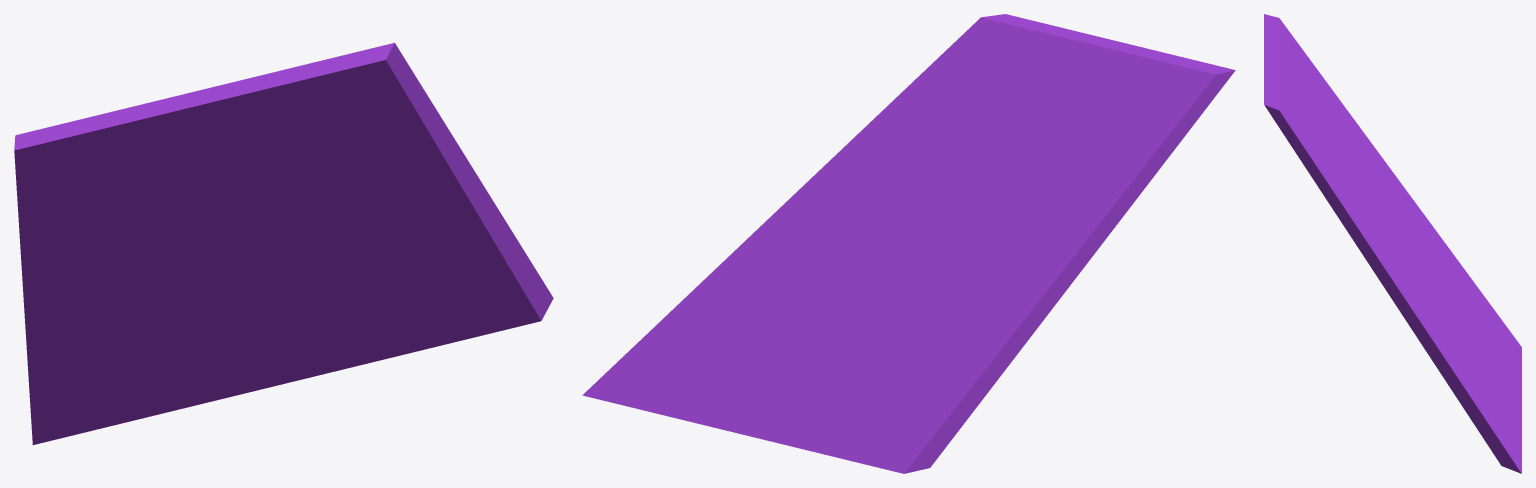
File: Window_111_chunks.fbx
3 views of the same model, side by side, from view 1: azimuth 30°, elevation 25°; view 2: azimuth 150°, elevation 25°; view 3: azimuth 270°, elevation 25° (orthographic). The views are drawn at different scales.
Visible parts, largest first — view 1: Window_111_4, Window_111_14, Window_111_1, Window_111_9, Window_111_2, Window_111_5, Window_111_20, Window_111_17, Window_111_7, Window_111_18, Window_111_12, Window_111_0 (+9 smaller); view 2: Window_111_9, Window_111_4, Window_111_14, Window_111_1, Window_111_2, Window_111_20, Window_111_3, Window_111_6, Window_111_15, Window_111_7, Window_111_17, Window_111_5 (+6 smaller); view 3: Window_111_9, Window_111_4, Window_111_20, Window_111_14, Window_111_2, Window_111_18, Window_111_1, Window_111_3, Window_111_6, Window_111_7, Window_111_15, Window_111_17 (+5 smaller).
Boxes of the visible parts, <box> form: Window_111_4: <box>234,42,425,185</box>; Window_111_14: <box>14,91,205,231</box>; Window_111_1: <box>29,327,236,444</box>; Window_111_9: <box>310,93,474,272</box>; Window_111_2: <box>195,277,354,395</box>; Window_111_5: <box>22,180,254,303</box>; Window_111_20: <box>387,243,553,358</box>; Window_111_17: <box>160,72,279,185</box>; Window_111_7: <box>300,259,388,366</box>; Window_111_18: <box>439,171,518,277</box>; Window_111_12: <box>24,266,174,331</box>; Window_111_0: <box>240,182,346,297</box>; Window_111_9: <box>781,90,933,284</box>; Window_111_4: <box>904,14,1070,145</box>; Window_111_14: <box>1078,41,1235,187</box>; Window_111_1: <box>793,347,994,473</box>; Window_111_2: <box>717,276,904,446</box>; Window_111_20: <box>582,312,748,422</box>; Window_111_3: <box>897,269,1064,394</box>; Window_111_6: <box>915,142,1019,252</box>; Window_111_15: <box>1007,126,1132,240</box>; Window_111_7: <box>693,280,879,428</box>; Window_111_17: <box>1006,30,1116,145</box>; Window_111_5: <box>999,174,1107,276</box>; Window_111_9: <box>1324,181,1431,306</box>; Window_111_4: <box>1264,79,1352,198</box>; Window_111_20: <box>1459,362,1521,473</box>; Window_111_14: <box>1264,14,1345,108</box>; Window_111_2: <box>1423,268,1521,420</box>; Window_111_18: <box>1394,293,1468,401</box>; Window_111_1: <box>1458,282,1521,390</box>; Window_111_3: <box>1398,179,1473,294</box>; Window_111_6: <box>1340,152,1397,228</box>; Window_111_7: <box>1428,277,1521,429</box>; Window_111_15: <box>1323,108,1379,158</box>; Window_111_17: <box>1264,61,1341,152</box>.
Size of the model in its own units: 1487 by 947 by 833.
